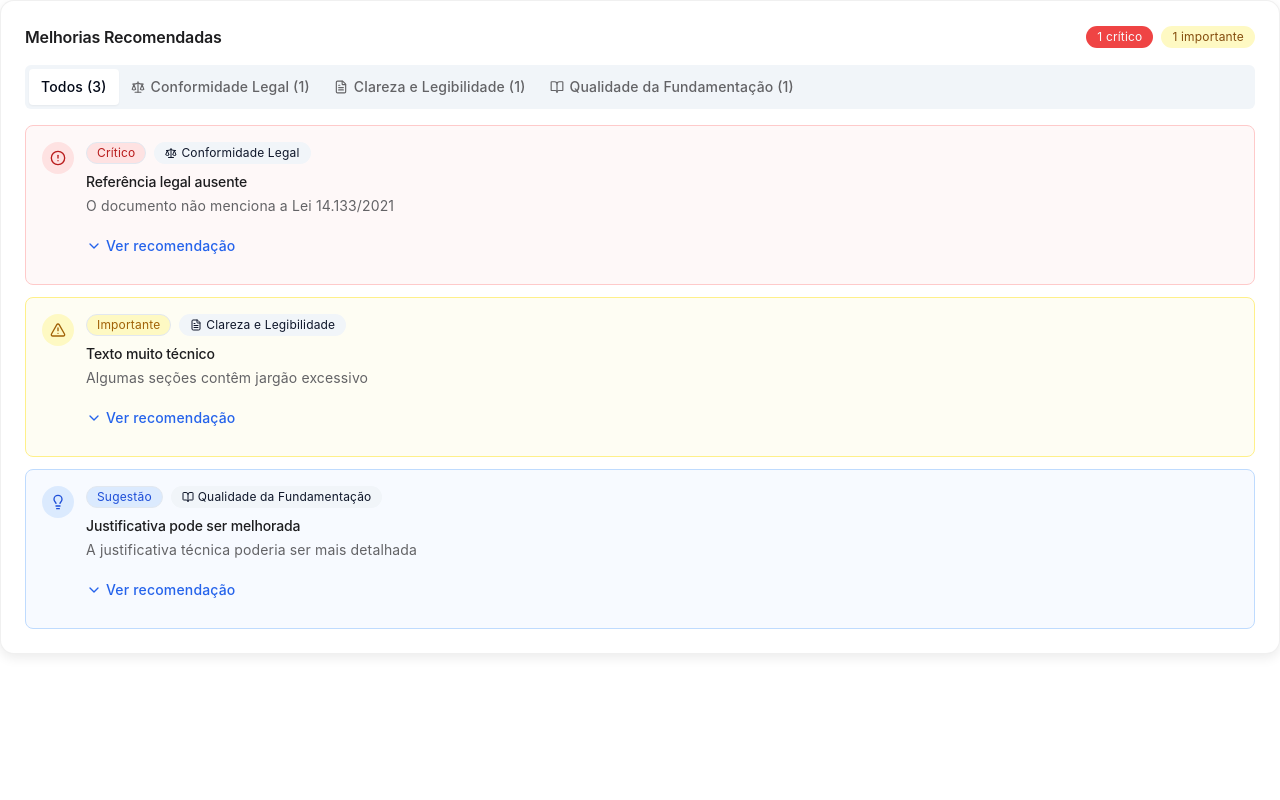
Test: ImprovementList › Expandable Recommendations › hides recommendation when collapsed
Click the button "Ver recomendação" below "Referência legal ausente" at (161, 246), box [86,224,236,268]
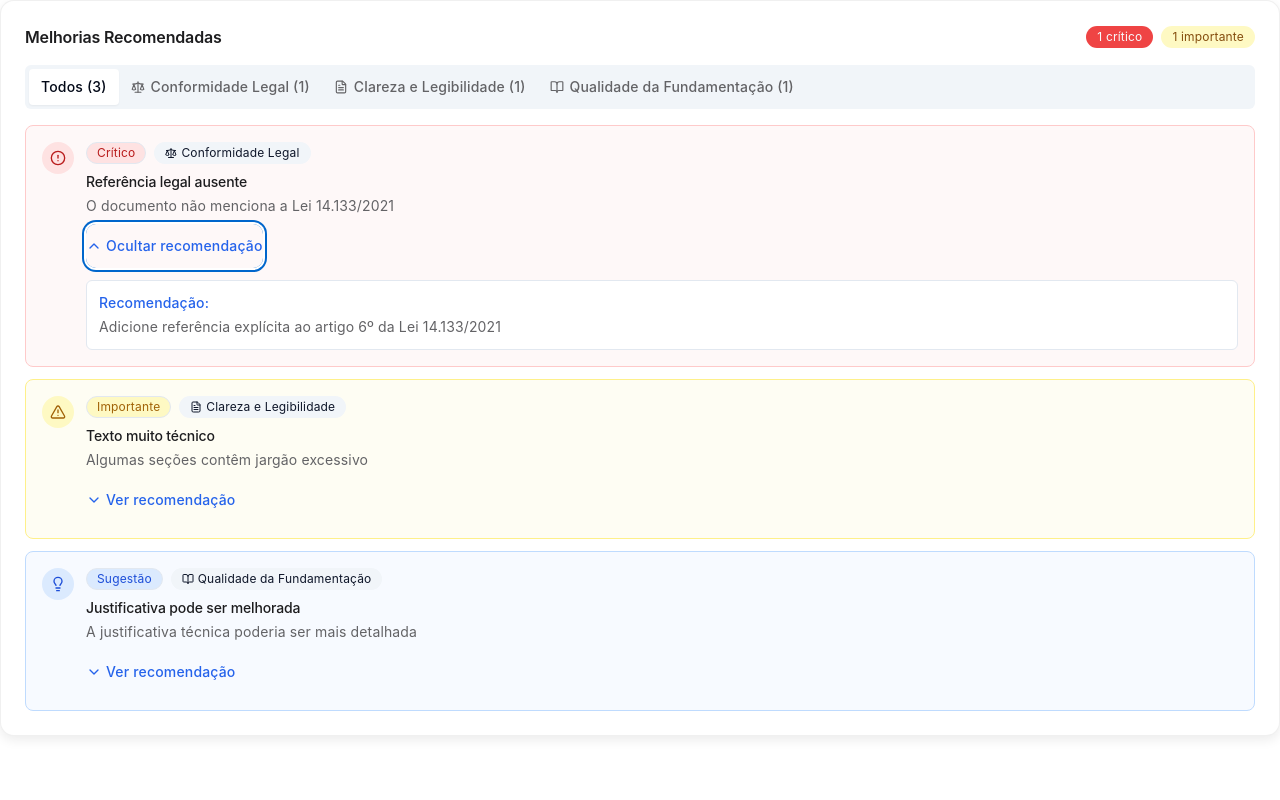
Click the button "Ocultar recomendação" at (174, 246), box [86,224,262,268]
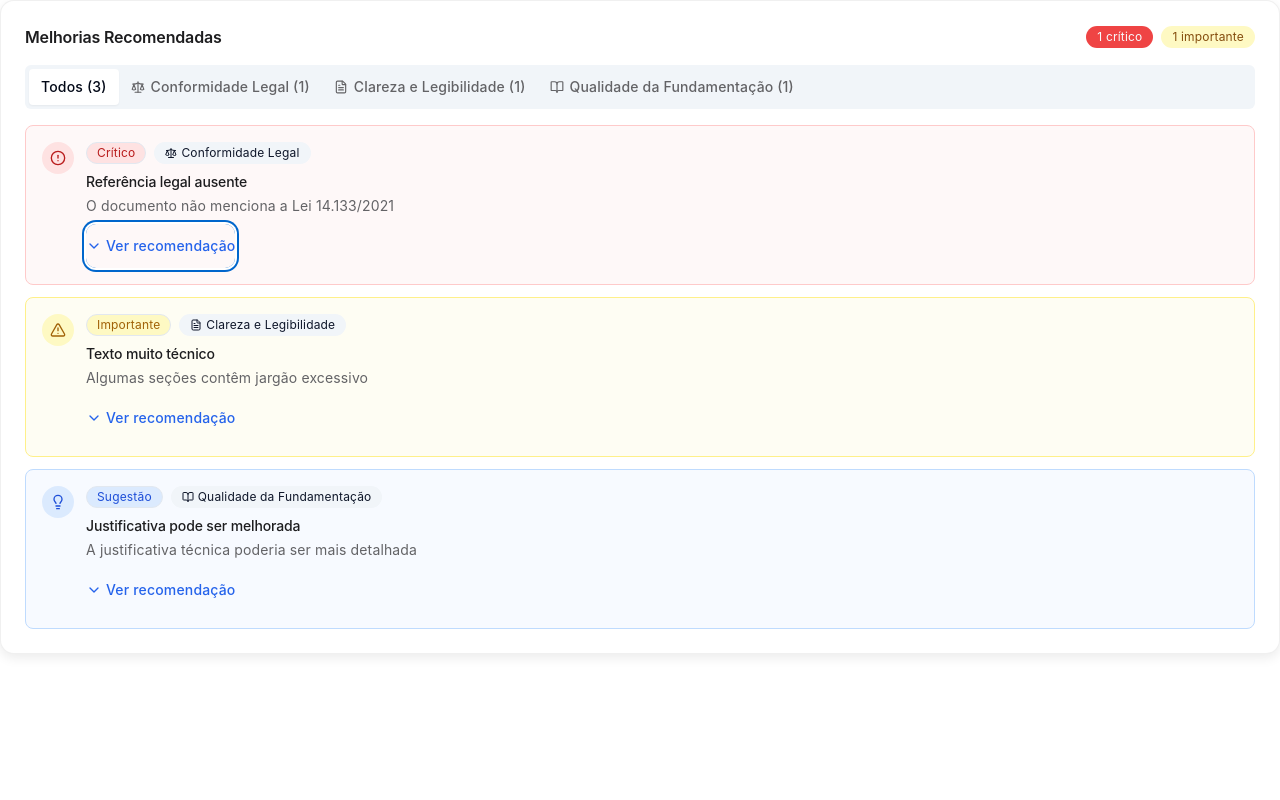
Check: the text "Adicione referência explícita ao artigo 6º da Lei 14.133/2021" is gone
